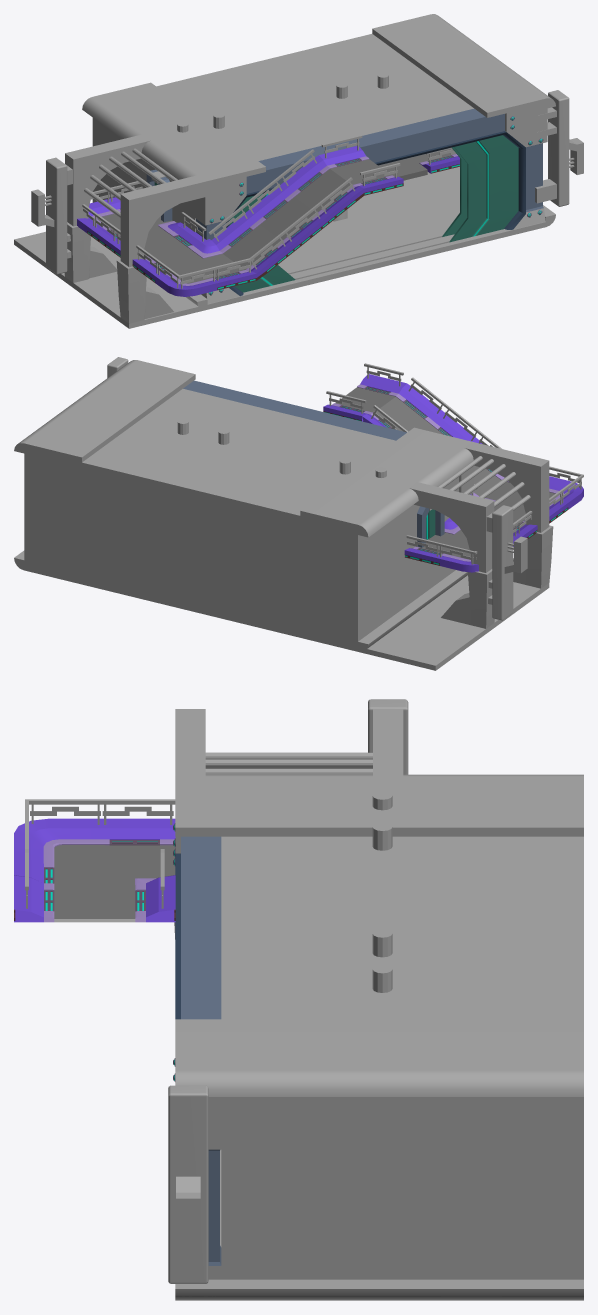
The picture shows the model from 3 angles, top to bottom: view 1: azimuth 30°, elevation 25°; view 2: azimuth 150°, elevation 25°; view 3: azimuth 270°, elevation 25°; orthographic projection. The views are drawn at different scales.
Visible parts, largest first — view 1: polySurface4974; view 2: polySurface4974; view 3: polySurface4974.
Part boxes in pixels (x1,y1,x2,y2): polySurface4974: [14, 14, 583, 328]; polySurface4974: [14, 357, 583, 670]; polySurface4974: [14, 699, 583, 1300].
Bounding box in the file's own units: 24.89 × 7.31 × 14.14.
